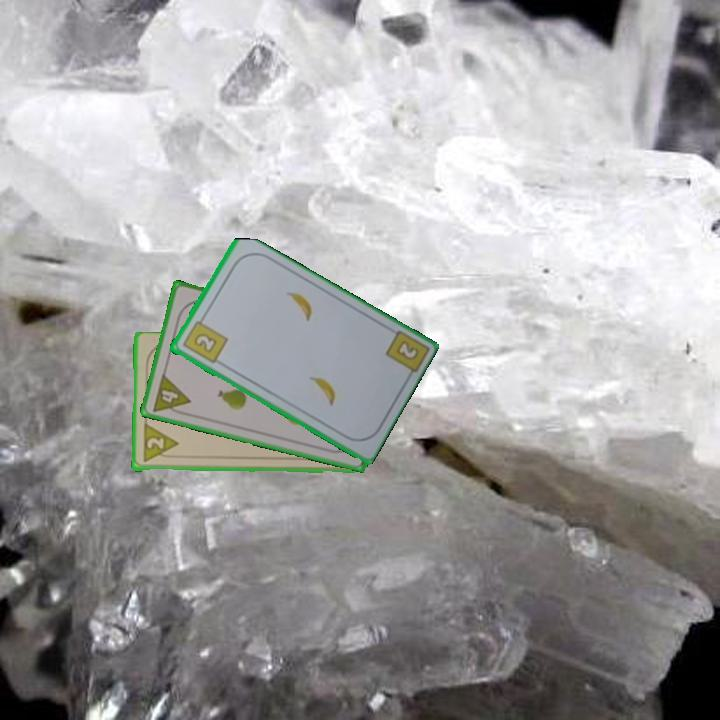2b: (179, 313, 230, 366), (392, 337, 421, 363)
2p: (140, 422, 180, 465)
4p: (149, 370, 193, 419)
